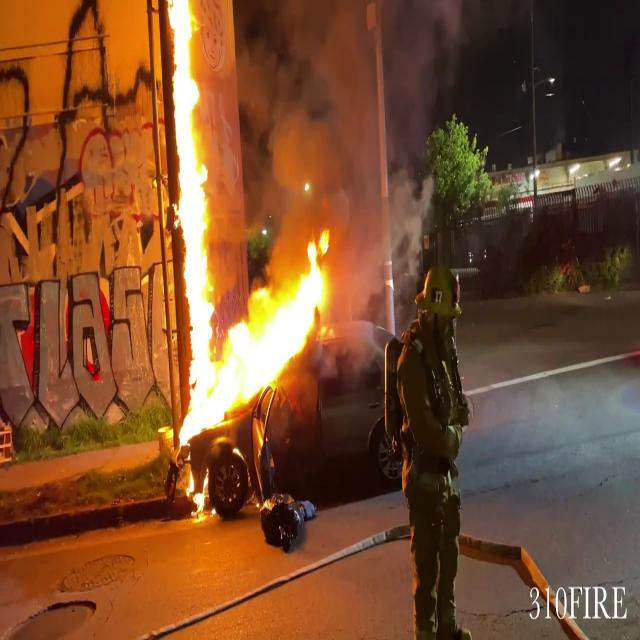Fire: (167, 0, 225, 443), (229, 227, 338, 407)
Smoke: (225, 0, 428, 268)
